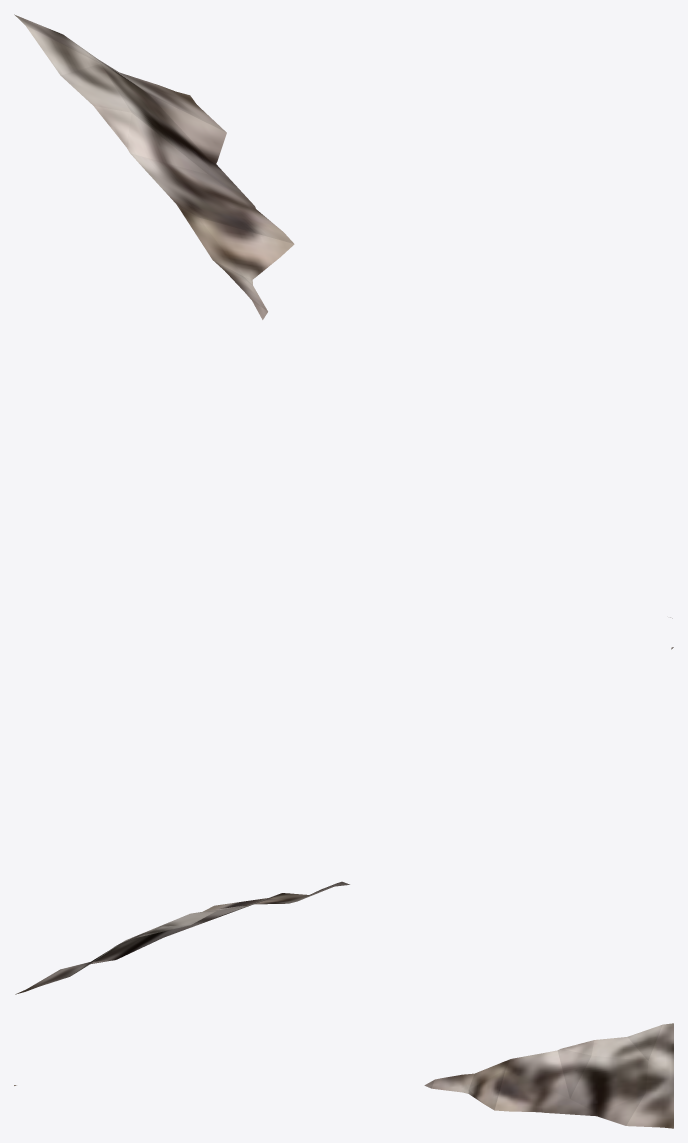
3 renders of one model, top to bottom at view 1: azimuth 30°, elevation 25°; view 2: azimuth 150°, elevation 25°; view 3: azimuth 270°, elevation 25°, orthographic. The views are drawn at different scales.
Bounding box in the file's own units: 0.2594 × 0.1743 × 1.67.
1 material, 1 textured.
